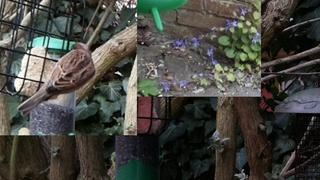sparrow: (17, 40, 97, 117)
